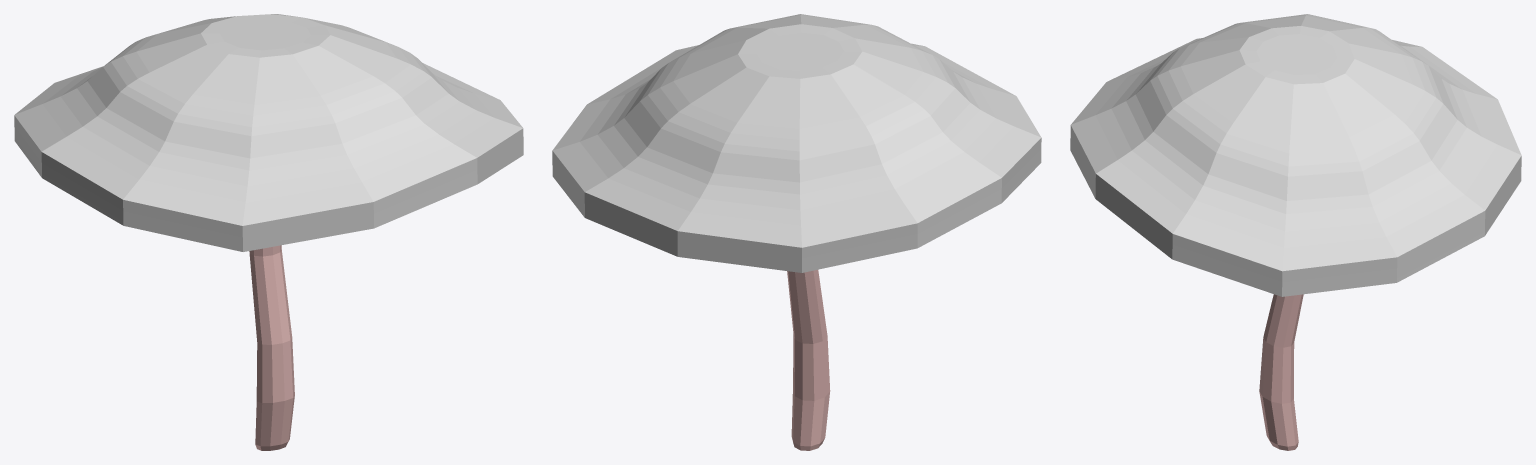
File: MushroomStylized2.fbx
3 renders of one model, left to right at view 1: azimuth 30°, elevation 25°; view 2: azimuth 150°, elevation 25°; view 3: azimuth 270°, elevation 25°, orthographic. The views are drawn at different scales.
Visible parts, largest first — view 1: Cylinder.020, Cylinder.017; view 2: Cylinder.020, Cylinder.017; view 3: Cylinder.020, Cylinder.017.
Boxes of the visible parts, left/top/right/bottom form: Cylinder.020: left=14, top=14, right=523, bottom=251; Cylinder.017: left=249, top=245, right=294, bottom=450; Cylinder.020: left=552, top=14, right=1041, bottom=272; Cylinder.017: left=787, top=269, right=830, bottom=450; Cylinder.020: left=1070, top=14, right=1521, bottom=296; Cylinder.017: left=1259, top=294, right=1303, bottom=450.
Bounding box in the file's own units: 366 × 325 × 337.
